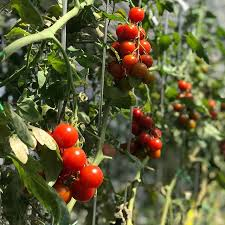tomato: (52, 125, 80, 149), (79, 166, 103, 189), (71, 179, 95, 202), (63, 147, 85, 170), (52, 181, 70, 204), (118, 40, 136, 56), (129, 6, 144, 23), (146, 137, 163, 152), (124, 24, 140, 38), (140, 55, 155, 69), (139, 39, 152, 55), (122, 54, 137, 67), (138, 132, 152, 144), (116, 22, 125, 38)
